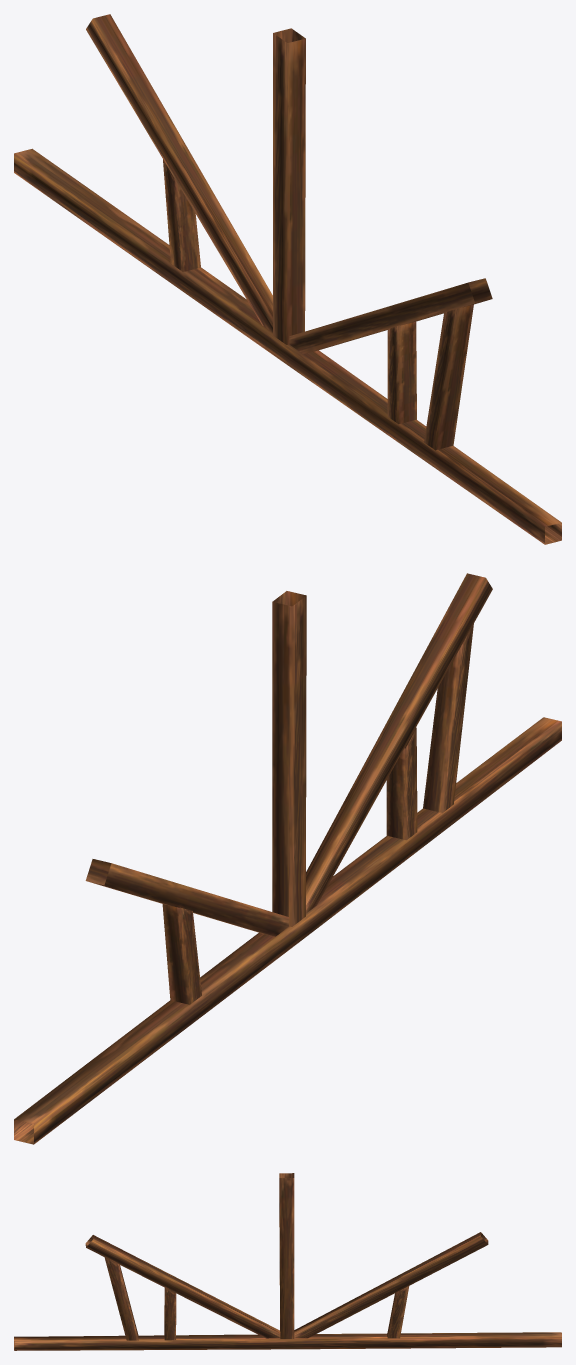
Rendered from SWORDLIGHT20_JAILCEILBRACKET17.fbx.
3 renders of one model, top to bottom at view 1: azimuth 30°, elevation 25°; view 2: azimuth 150°, elevation 25°; view 3: azimuth 270°, elevation 25°, orthographic. The views are drawn at different scales.
Parts seen in each view (by area): view 1: SWORDLIGHT20_JAILCEILBRACKET17; view 2: SWORDLIGHT20_JAILCEILBRACKET17; view 3: SWORDLIGHT20_JAILCEILBRACKET17.
Boxes of the visible parts, bbox=[...] form: SWORDLIGHT20_JAILCEILBRACKET17: bbox=[14, 14, 561, 544]; SWORDLIGHT20_JAILCEILBRACKET17: bbox=[14, 573, 561, 1144]; SWORDLIGHT20_JAILCEILBRACKET17: bbox=[14, 1173, 561, 1350].
Bounding box in the file's own units: 5396 × 49666 × 143930.
1 material, 1 textured.
